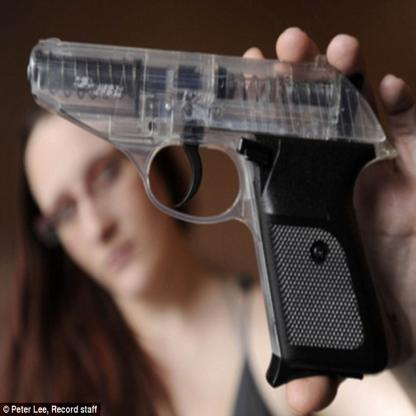pistol: (24, 36, 401, 388)
